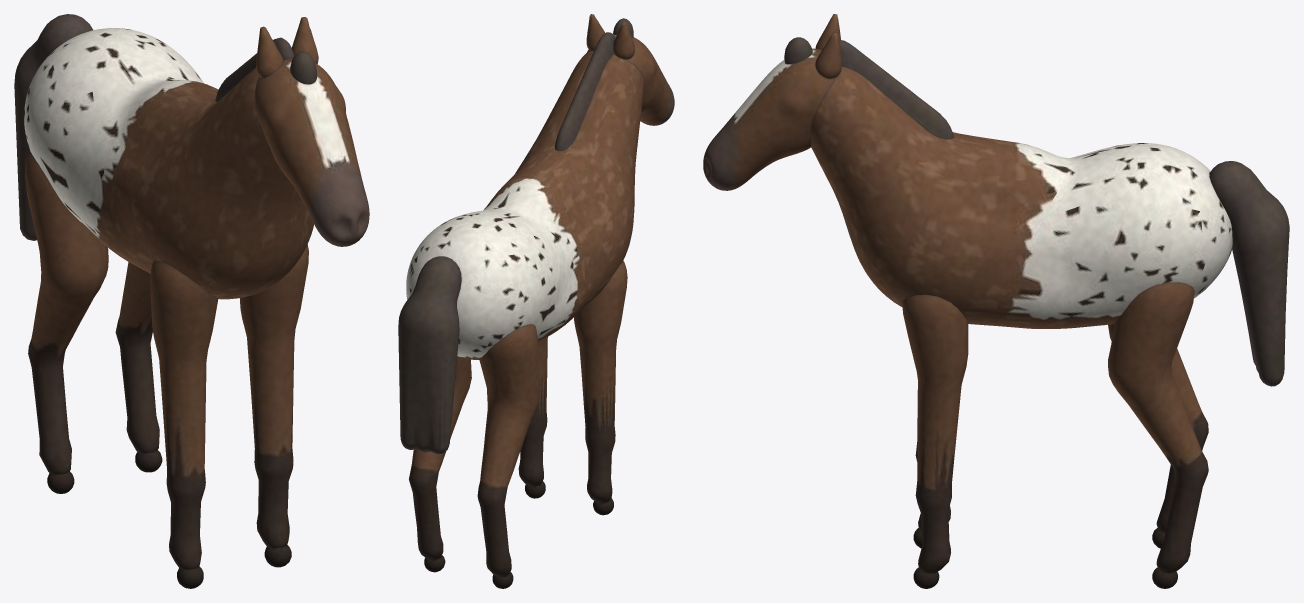
File: animal_appaloosa.glb
The picture shows the model from 3 angles, left to right: view 1: azimuth 30°, elevation 25°; view 2: azimuth 150°, elevation 25°; view 3: azimuth 270°, elevation 25°; orthographic projection. The views are drawn at different scales.
Parts seen in each view (by area): view 1: animal_appaloosa, head, leg0, leg2, leg1, leg3, tail; view 2: animal_appaloosa, tail, leg2, leg0, leg3, head, leg1; view 3: animal_appaloosa, leg3, leg1, head, tail, leg2.
Boxes of the visible parts, <box> form: animal_appaloosa: <box>24,28,313,299</box>; head: <box>255,17,369,246</box>; leg0: <box>150,261,218,588</box>; leg2: <box>25,150,108,493</box>; leg1: <box>240,244,308,567</box>; leg3: <box>115,262,162,472</box>; tail: <box>14,14,92,240</box>; animal_appaloosa: <box>406,32,643,359</box>; tail: <box>398,256,461,454</box>; leg2: <box>477,324,540,588</box>; leg0: <box>574,260,627,515</box>; leg3: <box>409,357,471,572</box>; head: <box>586,14,674,125</box>; leg1: <box>518,337,547,498</box>; animal_appaloosa: <box>811,39,1232,328</box>; leg3: <box>1108,282,1208,588</box>; leg1: <box>902,294,968,588</box>; head: <box>703,14,841,190</box>; tail: <box>1209,161,1289,386</box>; leg2: <box>1108,324,1208,548</box>.
Size of the model in its own units: 0.2312 by 0.8228 by 0.8035.
1 material, 1 textured.
